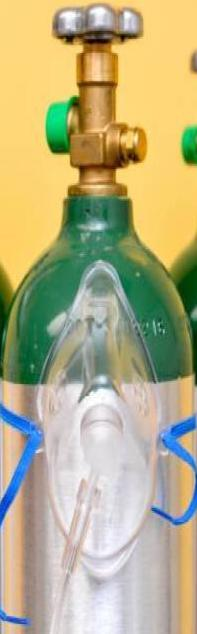cylinder: (1, 1, 197, 634)
